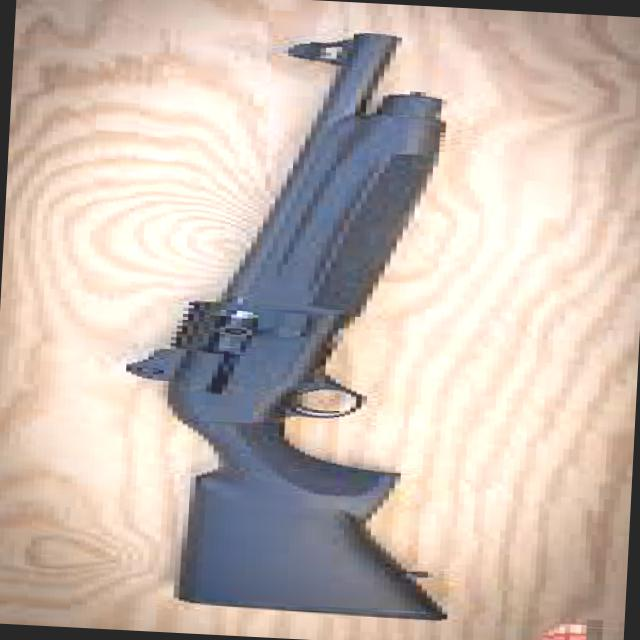long weapon: (72, 12, 514, 628)
